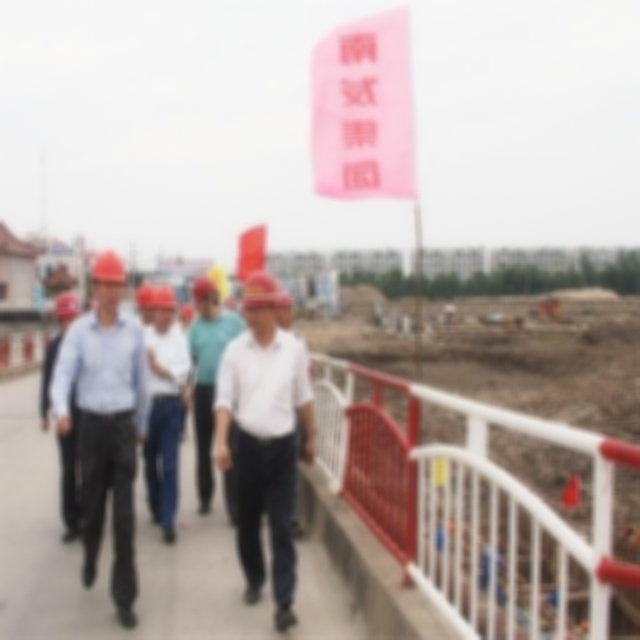Sin_Chaleco: (224, 326, 308, 437), (68, 308, 148, 413)
